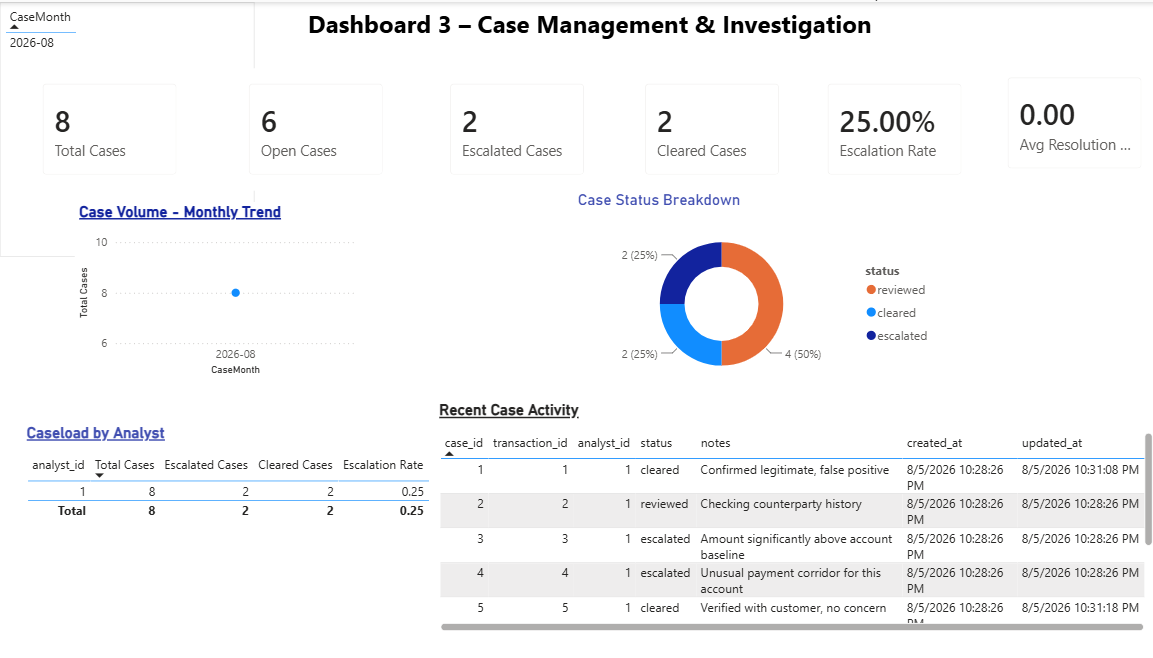

The page's visual inventory and layout, read from the dashboard file:
{"tool":"powerbi","page":{"name":"Dashboard3_Case Management & Investigation","canvas":[1280,720],"ordinal":2},"visuals":[{"type":"tableEx","fields":{"Values":["case_notes.CaseMonth"]},"box":[10,0,280,280],"z":0},{"type":"cardVisual","fields":{"Data":["case_notes.Total Cases"]},"box":[39.8,72.7,181.1,134.5],"z":1000},{"type":"cardVisual","fields":{"Data":["case_notes.Open Cases"]},"box":[266.2,72.7,181.1,134.5],"z":2000},{"type":"cardVisual","fields":{"Data":["case_notes.Escalated Cases"]},"box":[487.1,72.7,181.1,134.5],"z":3000},{"type":"cardVisual","fields":{"Data":["case_notes.Cleared Cases"]},"box":[701.2,72.7,181.1,134.5],"z":4000},{"type":"cardVisual","fields":{"Data":["case_notes.Escalation Rate"]},"box":[901.5,72.7,181.1,134.5],"z":5000},{"type":"cardVisual","fields":{"Data":["case_notes.Avg Resolution Days"]},"box":[1099.1,65.9,181.1,134.5],"z":6000},{"type":"lineChart","title":"Case Volume - Monthly Trend","fields":{"Category":["case_notes.CaseMonth"],"Y":["case_notes.Total Cases"]},"box":[91.9,219.6,312.9,194.9],"z":7000},{"type":"donutChart","title":"Case Status Breakdown","fields":{"Category":["case_notes.status"],"Y":["case_notes.Total Cases"]},"box":[639.5,207.2,403.4,218.2],"z":8000},{"type":"tableEx","title":"Caseload by Analyst","fields":{"Values":["case_notes.analyst_id","case_notes.Total Cases","case_notes.Escalated Cases","case_notes.Cleared Cases","case_notes.Escalation Rate"]},"box":[34.3,462.4,463.8,194.9],"z":9000},{"type":"tableEx","title":"Recent Case Activity","fields":{"Values":["case_notes.case_id","case_notes.transaction_id","case_notes.analyst_id","case_notes.status","case_notes.notes","case_notes.created_at","case_notes.updated_at"]},"box":[487.1,437.7,793.1,258],"z":10000},{"type":"textbox","box":[334.8,0,644.9,72.7],"z":11000}]}

Visuals, with their boxes in screenshot pixels (x1, y1, x2, y2), scaled from the page's 1280x720 canvas onto the 1153x658 screenshot:
tableEx - case_notes.CaseMonth: {"left": 9, "top": 0, "right": 261, "bottom": 256}
cardVisual - case_notes.Total Cases: {"left": 36, "top": 66, "right": 199, "bottom": 189}
cardVisual - case_notes.Open Cases: {"left": 240, "top": 66, "right": 403, "bottom": 189}
cardVisual - case_notes.Escalated Cases: {"left": 439, "top": 66, "right": 602, "bottom": 189}
cardVisual - case_notes.Cleared Cases: {"left": 632, "top": 66, "right": 795, "bottom": 189}
cardVisual - case_notes.Escalation Rate: {"left": 812, "top": 66, "right": 975, "bottom": 189}
cardVisual - case_notes.Avg Resolution Days: {"left": 990, "top": 60, "right": 1152, "bottom": 183}
"Case Volume - Monthly Trend" lineChart: {"left": 83, "top": 201, "right": 365, "bottom": 379}
"Case Status Breakdown" donutChart: {"left": 576, "top": 189, "right": 939, "bottom": 389}
"Caseload by Analyst" tableEx: {"left": 31, "top": 423, "right": 449, "bottom": 601}
"Recent Case Activity" tableEx: {"left": 439, "top": 400, "right": 1152, "bottom": 636}
textbox: {"left": 302, "top": 0, "right": 882, "bottom": 66}
